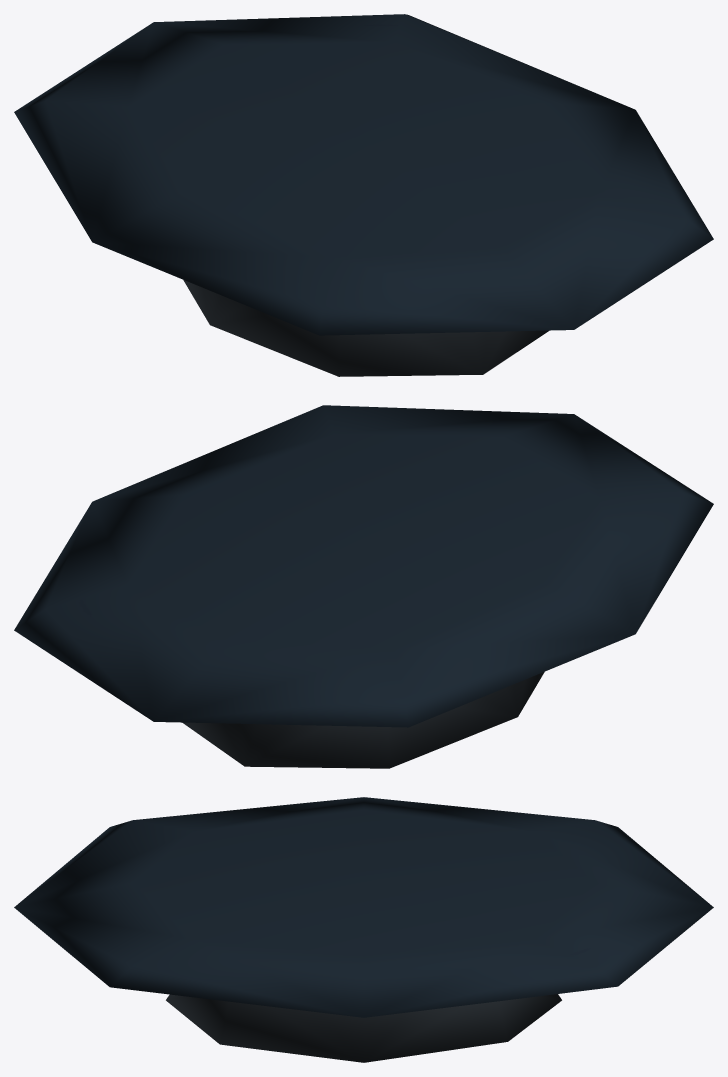
Rendered from mesa.FBX.
3 views of the same model, one above another, from view 1: azimuth 30°, elevation 25°; view 2: azimuth 150°, elevation 25°; view 3: azimuth 270°, elevation 25° (orthographic). The views are drawn at different scales.
Visible parts, largest first — view 1: Object001; view 2: Object001; view 3: Object001.
Boxes of the visible parts, x1,y1,x2,y2 form: Object001: (14, 14, 713, 376); Object001: (14, 405, 713, 768); Object001: (14, 797, 713, 1062).
Size of the model in its own units: 62.58 by 15.95 by 83.88.
